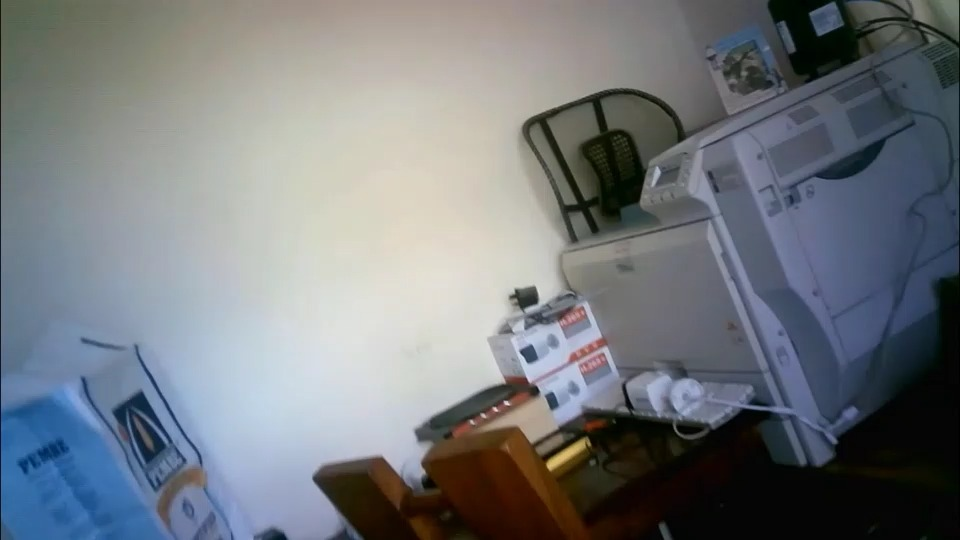wheat_flour_blue_label: (3, 317, 260, 539)
